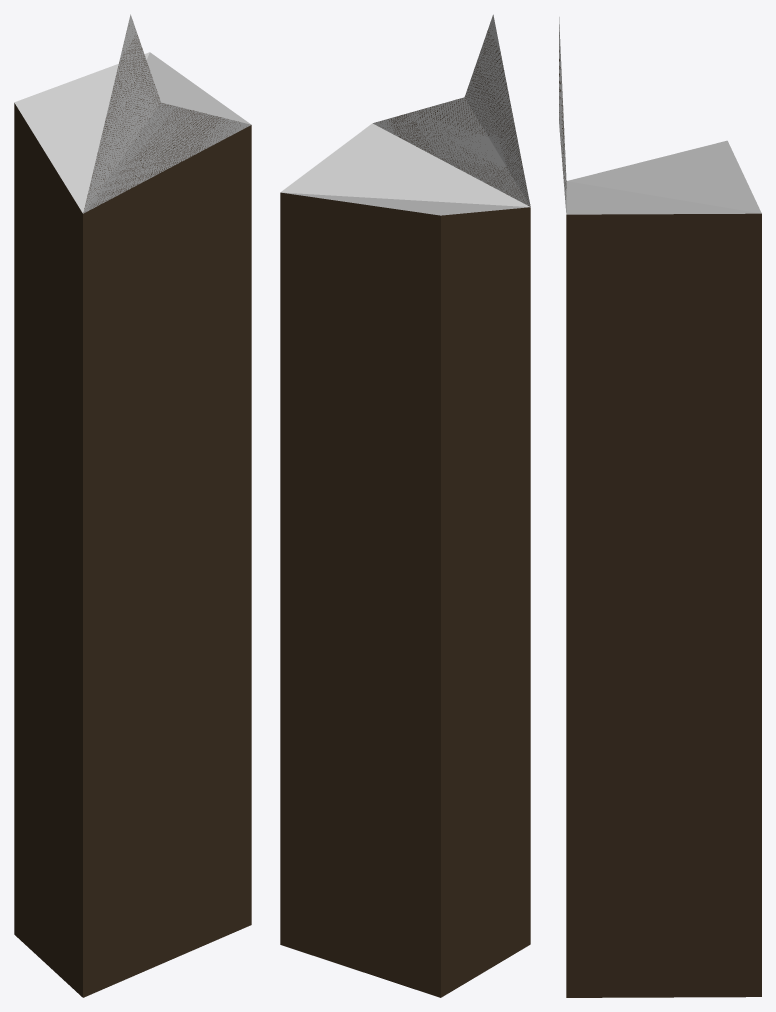
The model's file is OC_LOB_PLANKBROKEN_SMALL.OBJ.
The picture shows the model from 3 angles, left to right: view 1: azimuth 30°, elevation 25°; view 2: azimuth 150°, elevation 25°; view 3: azimuth 270°, elevation 25°; orthographic projection. The views are drawn at different scales.
Parts seen in each view (by area): view 1: OC_LOB_PLANKBROKEN_SMALL; view 2: OC_LOB_PLANKBROKEN_SMALL; view 3: OC_LOB_PLANKBROKEN_SMALL.
Part boxes in pixels (x1,y1,x2,y2): OC_LOB_PLANKBROKEN_SMALL: (14,14,251,997); OC_LOB_PLANKBROKEN_SMALL: (280,14,530,997); OC_LOB_PLANKBROKEN_SMALL: (559,17,761,997).
Bounding box in the file's own units: 0.5512 × 3.05 × 0.5869.
